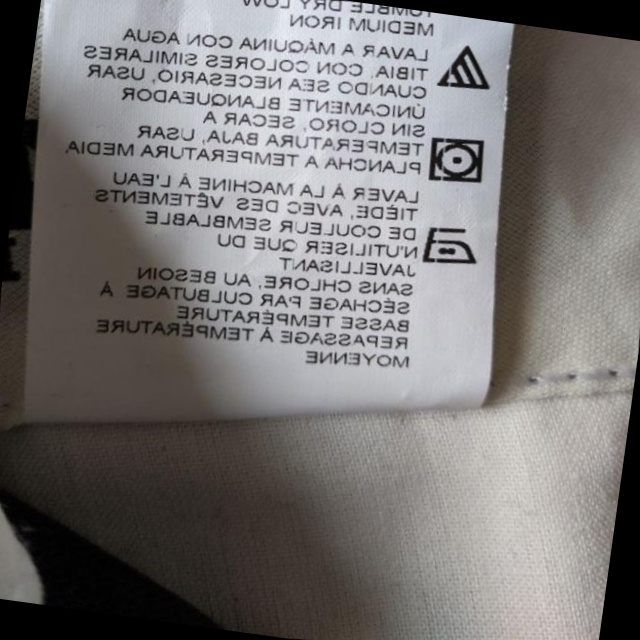iron_medium: (416, 217, 479, 270)
non_chlorine_bleach: (429, 35, 497, 102)
tumble_dry_low: (422, 128, 494, 191)
